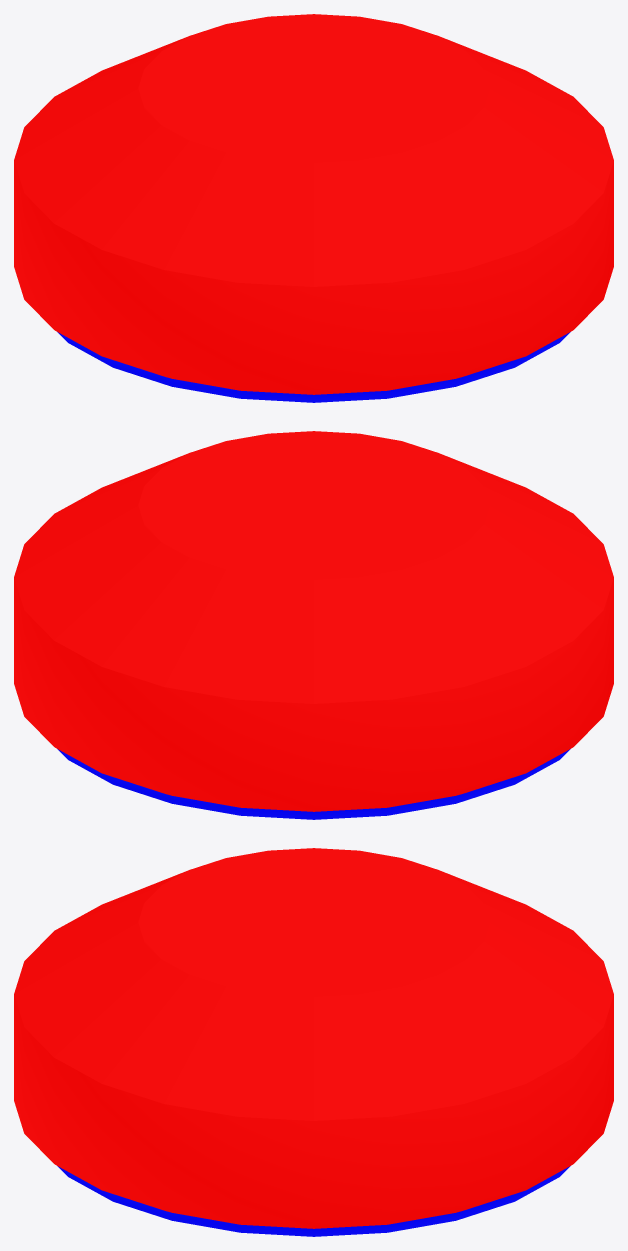
The model's file is DroneWall_TowerTop_001.FBX.
3 views of the same model, one above another, from view 1: azimuth 30°, elevation 25°; view 2: azimuth 150°, elevation 25°; view 3: azimuth 270°, elevation 25° (orthographic).
Parts seen in each view (by area): view 1: TowerTop; view 2: TowerTop; view 3: TowerTop.
Boxes of the visible parts, left/top/right/bottom form: TowerTop: left=14, top=14, right=613, bottom=402; TowerTop: left=14, top=431, right=613, bottom=819; TowerTop: left=14, top=848, right=613, bottom=1236.
Size of the model in its own units: 444 by 444 by 159.
